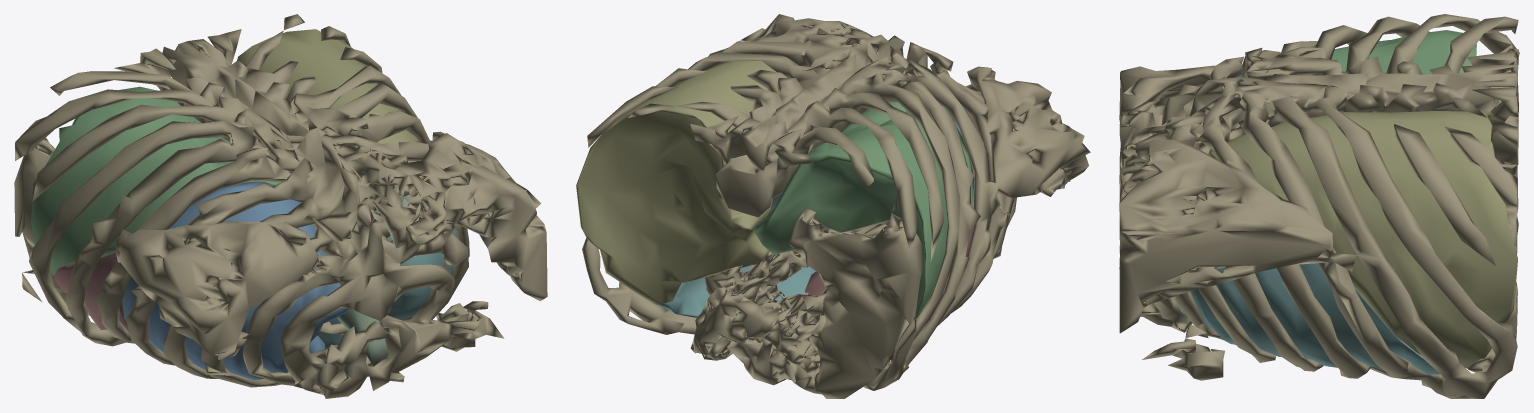
3 renders of one model, left to right at view 1: azimuth 30°, elevation 25°; view 2: azimuth 150°, elevation 25°; view 3: azimuth 270°, elevation 25°, orthographic. The views are drawn at different scales.
Visible parts, largest first — view 1: mtl548985, mtl180585, mtl1, mtl402743, mtl287895, mtl103847, mtl523629; view 2: mtl548985, mtl402743, mtl180585, mtl287895, mtl103847; view 3: mtl548985, mtl402743, mtl287895, mtl180585.
Boxes of the visible parts, bbox=[...] form: mtl548985: bbox=[14, 14, 547, 398]; mtl180585: bbox=[31, 86, 281, 275]; mtl1: bbox=[122, 182, 349, 379]; mtl402743: bbox=[237, 29, 418, 162]; mtl287895: bbox=[317, 194, 456, 348]; mtl103847: bbox=[53, 252, 129, 332]; mtl523629: bbox=[337, 309, 388, 366]; mtl548985: bbox=[582, 14, 1090, 398]; mtl402743: bbox=[576, 54, 782, 303]; mtl180585: bbox=[754, 102, 974, 319]; mtl287895: bbox=[656, 193, 815, 317]; mtl103847: bbox=[805, 203, 973, 360]; mtl548985: bbox=[1119, 14, 1519, 398]; mtl402743: bbox=[1208, 111, 1517, 368]; mtl287895: bbox=[1175, 153, 1439, 374]; mtl180585: bbox=[1331, 30, 1497, 159].
Size of the model in its own units: 300 by 210 by 284.
